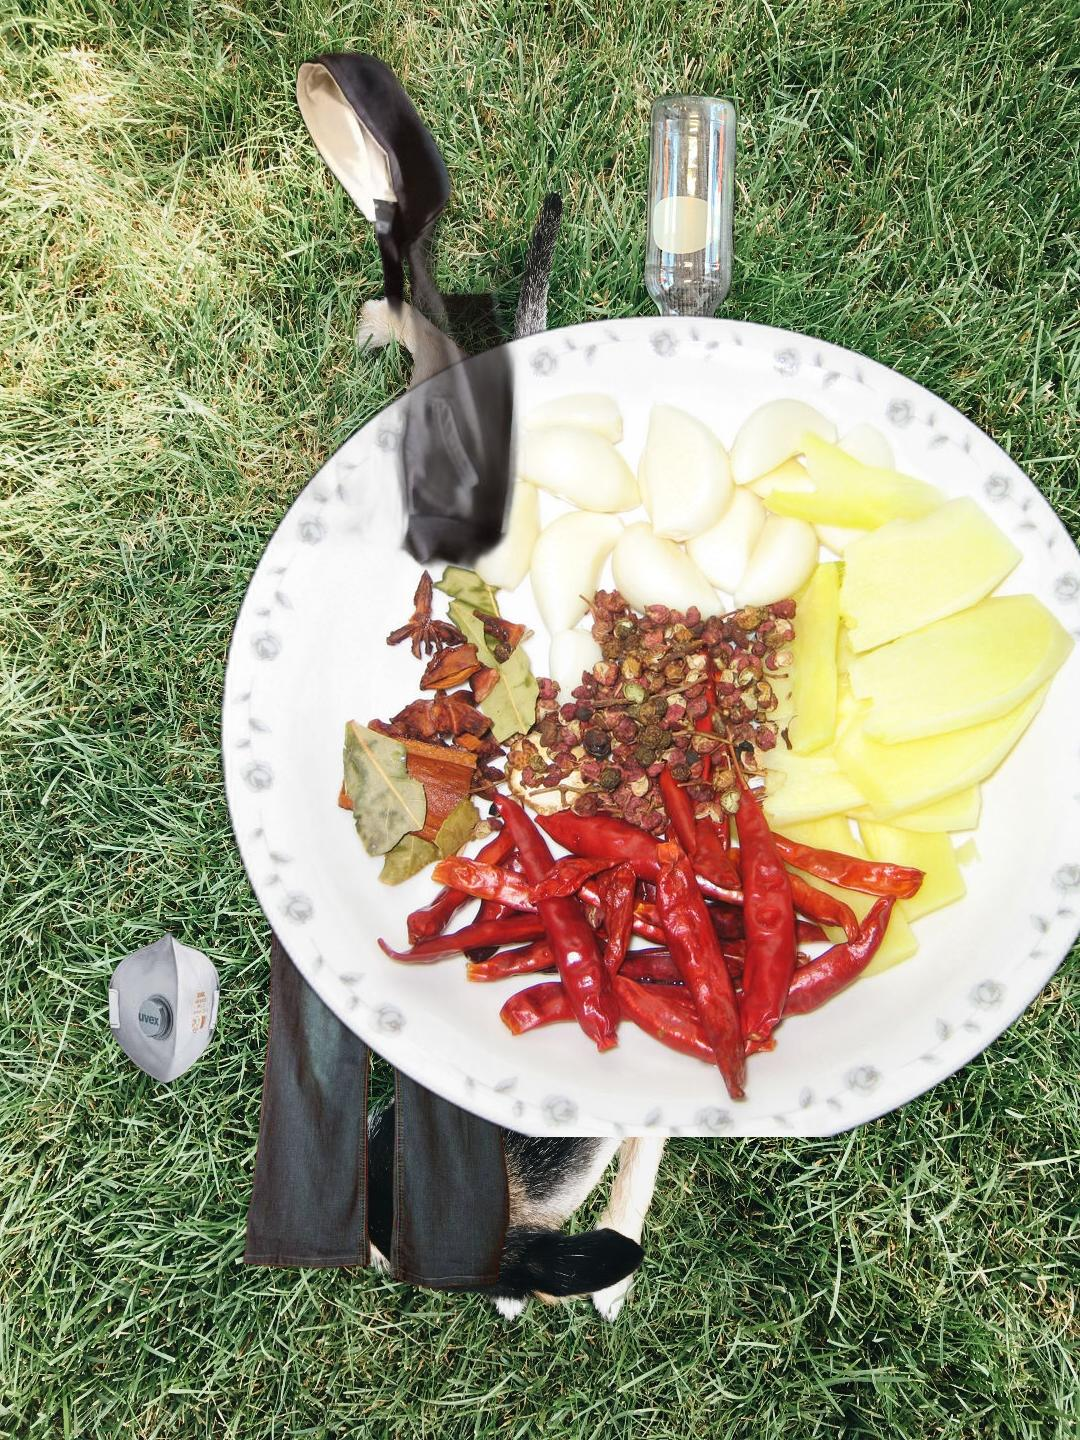biological: (209, 307, 1080, 1137)
clothes: (126, 39, 526, 679), (239, 801, 514, 1293)
glass: (638, 87, 741, 426)
trash: (106, 929, 223, 1086)
